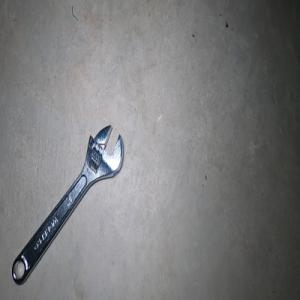Wrench: (11, 124, 123, 285)
